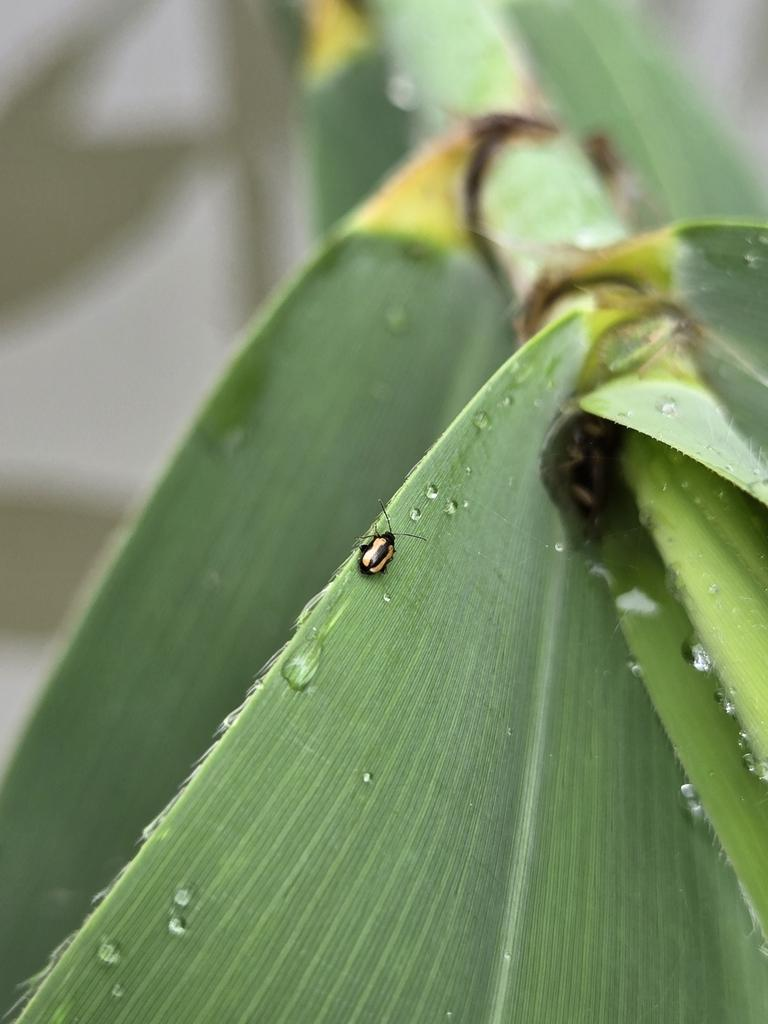flea_beetle: (336, 483, 433, 602)
